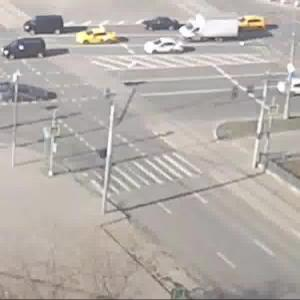car: (3, 38, 49, 63), (26, 15, 67, 38), (146, 41, 192, 59), (77, 28, 116, 49), (193, 23, 235, 42), (236, 13, 263, 31), (274, 78, 300, 93), (146, 19, 177, 31)
